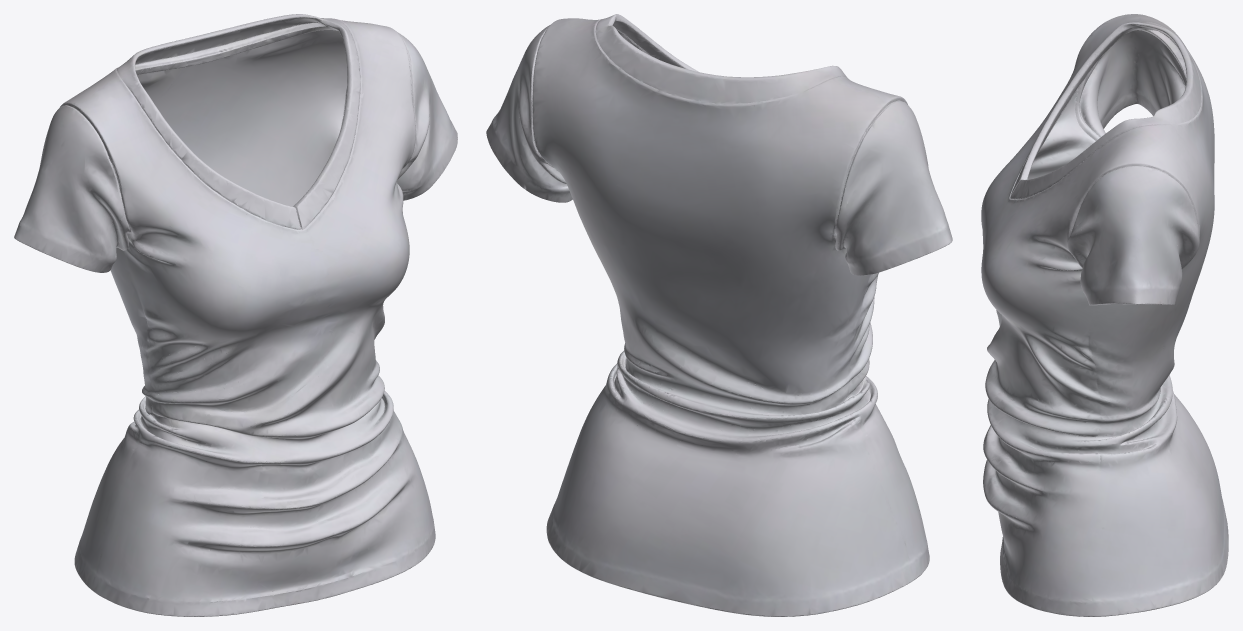
The picture shows the model from 3 angles, left to right: view 1: azimuth 30°, elevation 25°; view 2: azimuth 150°, elevation 25°; view 3: azimuth 270°, elevation 25°; orthographic projection. The views are drawn at different scales.
Visible parts, largest first — view 1: model; view 2: model; view 3: model.
Part boxes in pixels (<box>): model: <box>14,14,457,616</box>; model: <box>486,14,952,616</box>; model: <box>981,14,1228,616</box>.
Size of the model in its own units: 1.73 by 1.9 by 0.8856.
Materials: 1 (1 with a texture image).
